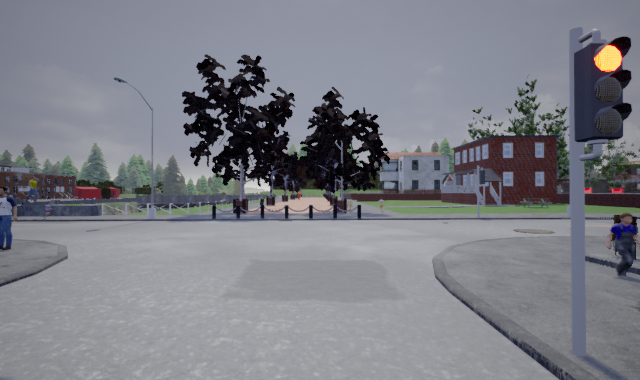pedestrian: (605, 212, 639, 280), (1, 184, 18, 251), (23, 174, 42, 202), (40, 201, 54, 218), (375, 195, 386, 212), (345, 195, 356, 211)
traffic_light: (574, 36, 633, 142)
